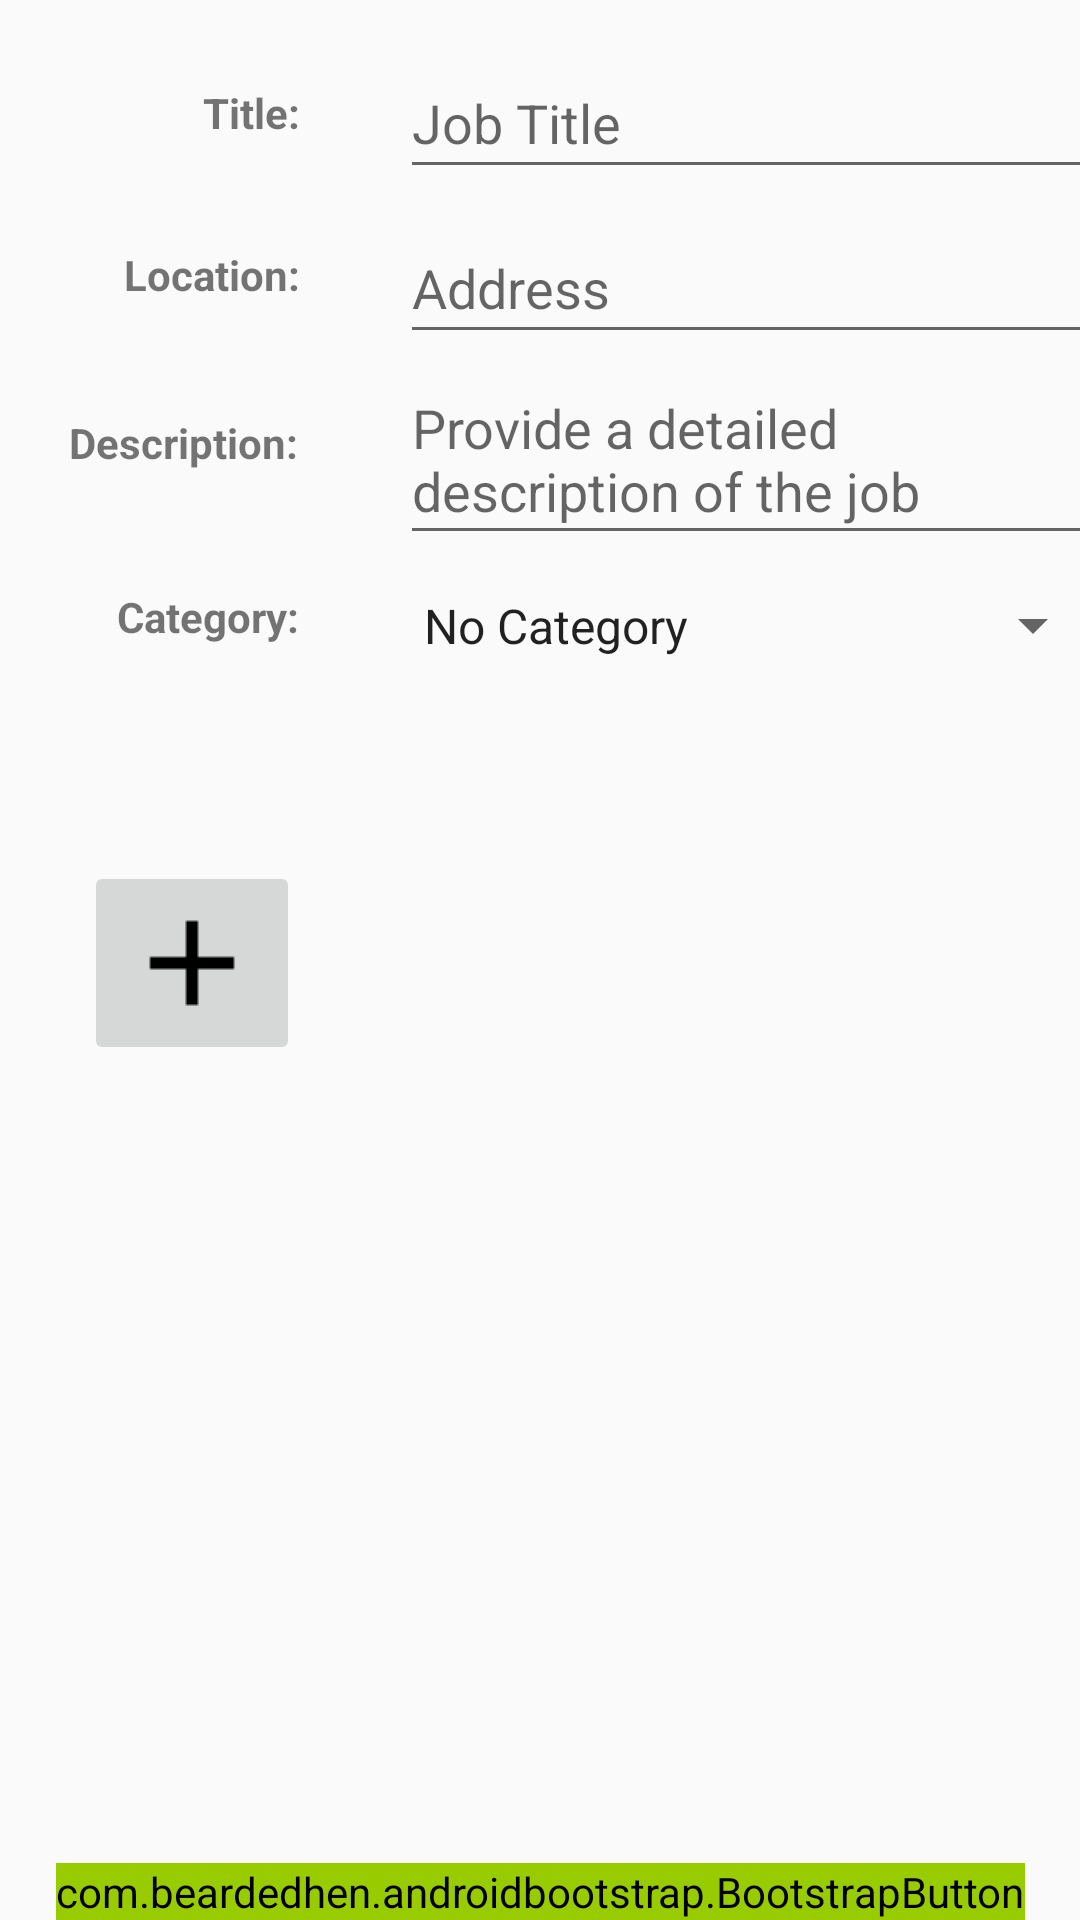

Icon click points for this 1080px x 1920px phone screenshot, format point (x, y):
add job plus: point (192, 963)
